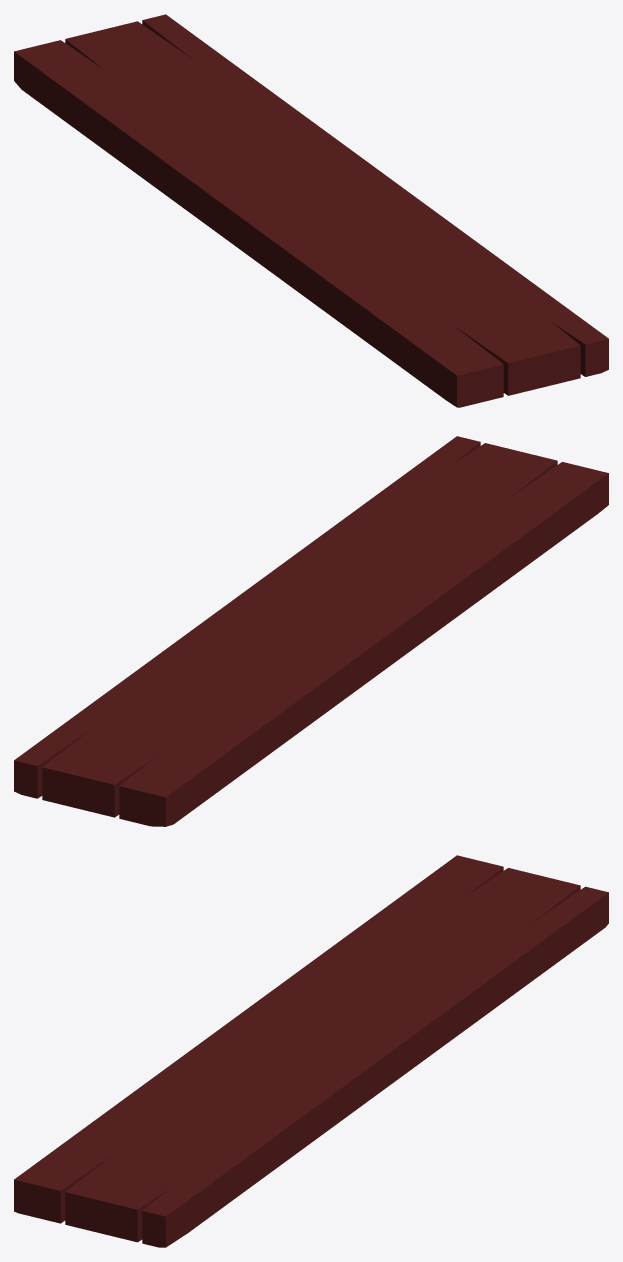
The model's file is Plank.fbx.
3 views of the same model, one above another, from view 1: azimuth 30°, elevation 25°; view 2: azimuth 150°, elevation 25°; view 3: azimuth 330°, elevation 25° (orthographic).
Visible parts, largest first — view 1: Cube; view 2: Cube; view 3: Cube.
Part boxes in pixels (left/top/right/bottom): Cube: left=14, top=14, right=608, bottom=407; Cube: left=14, top=436, right=608, bottom=826; Cube: left=14, top=855, right=608, bottom=1247.
Size of the model in its own units: 39.6 by 8.14 by 200.
